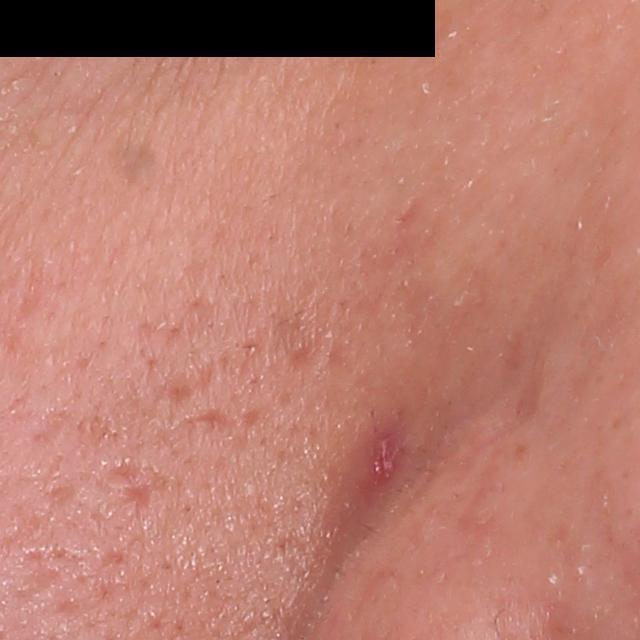atrophic_scar: (168, 409, 234, 436)
other: (108, 127, 161, 182)
